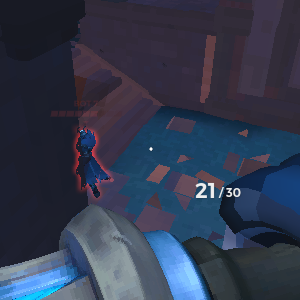model: (70, 126, 113, 194)
